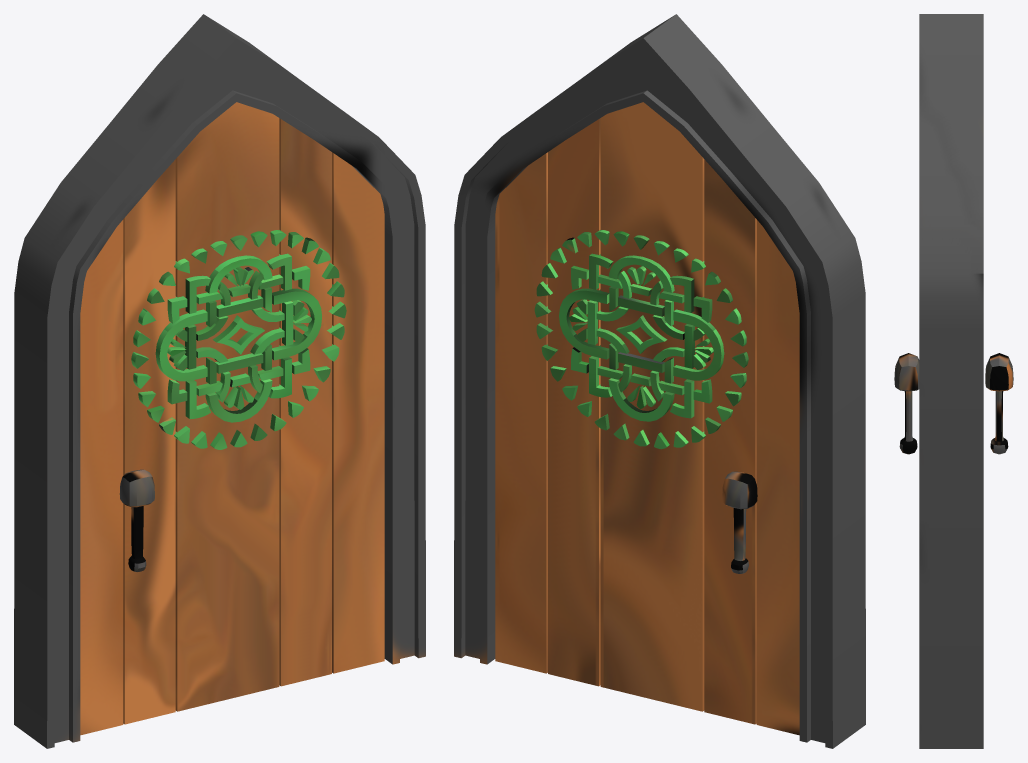
Rendered from door2.glb.
The picture shows the model from 3 angles, left to right: view 1: azimuth 30°, elevation 25°; view 2: azimuth 150°, elevation 25°; view 3: azimuth 270°, elevation 25°; orthographic projection. The views are drawn at different scales.
Parts seen in each view (by area): view 1: Cube.014; view 2: Cube.014; view 3: Cube.014.
Part boxes in pixels (bbox=[...]): Cube.014: bbox=[14, 14, 425, 748]; Cube.014: bbox=[454, 14, 865, 748]; Cube.014: bbox=[894, 14, 1013, 748].
Bounding box in the file's own units: 0.6281 × 1.05 × 0.1763.
1 material, 1 textured.
